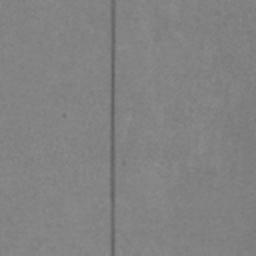Scratches: (110, 0, 116, 256)
